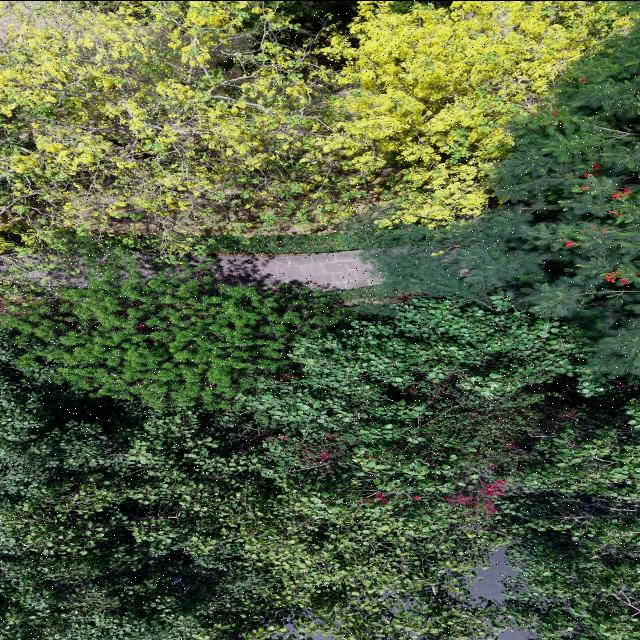PATHWAYS: (183, 251, 381, 289), (214, 251, 381, 289)
VEGETATION_TREE: (0, 1, 639, 639), (1, 298, 575, 639), (377, 30, 639, 639), (1, 1, 629, 249), (485, 30, 639, 639), (376, 29, 639, 378), (495, 31, 639, 376), (4, 270, 344, 408), (498, 385, 639, 639), (270, 1, 356, 34)
